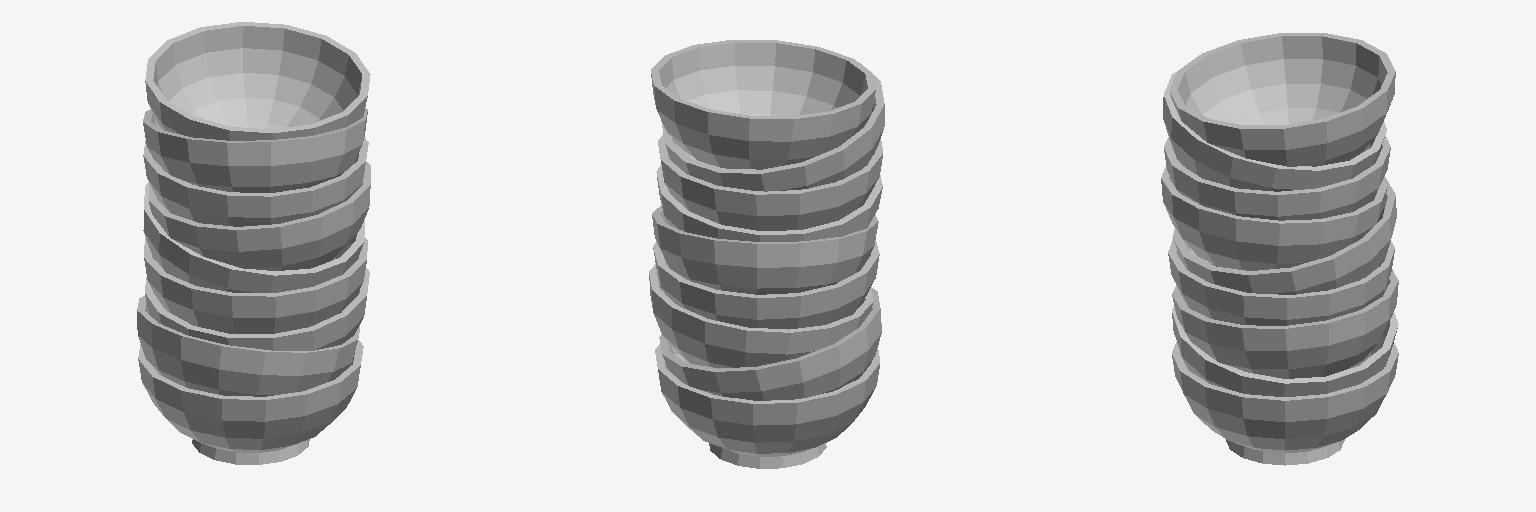
The model's file is ChineseBowlStack_3.obj.
3 views of the same model, side by side, from view 1: azimuth 30°, elevation 25°; view 2: azimuth 150°, elevation 25°; view 3: azimuth 270°, elevation 25° (orthographic).
Visible parts, largest first — view 1: pSphere12; view 2: pSphere12; view 3: pSphere12.
Part boxes in pixels (x1,y1,x2,y2): pSphere12: (137, 22, 370, 464); pSphere12: (649, 40, 884, 468); pSphere12: (1161, 33, 1398, 465).
Bounding box in the file's own units: 2.82 × 4.89 × 2.84.